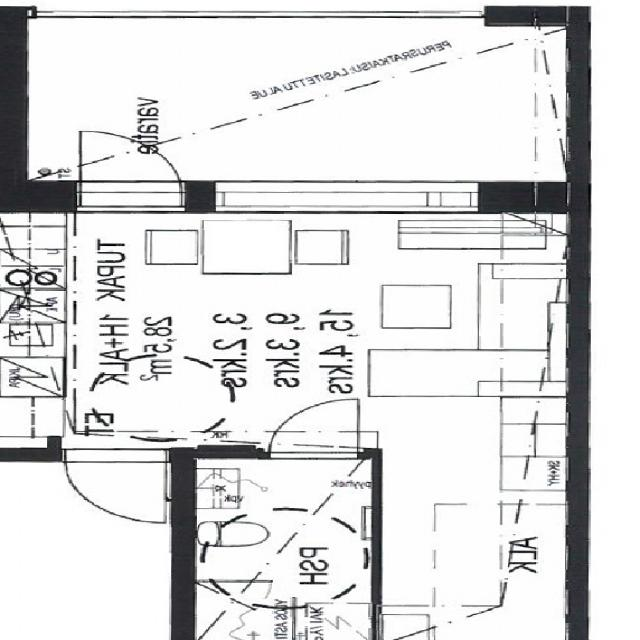door: (80, 119, 182, 213), (66, 447, 167, 522), (270, 392, 359, 459)
